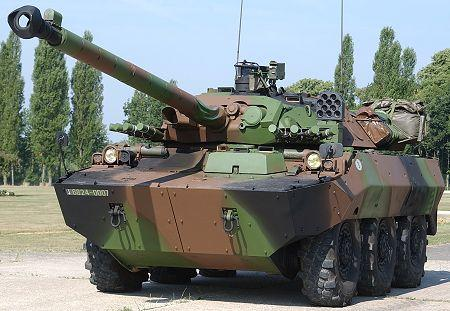license_plate: (65, 186, 110, 198)
